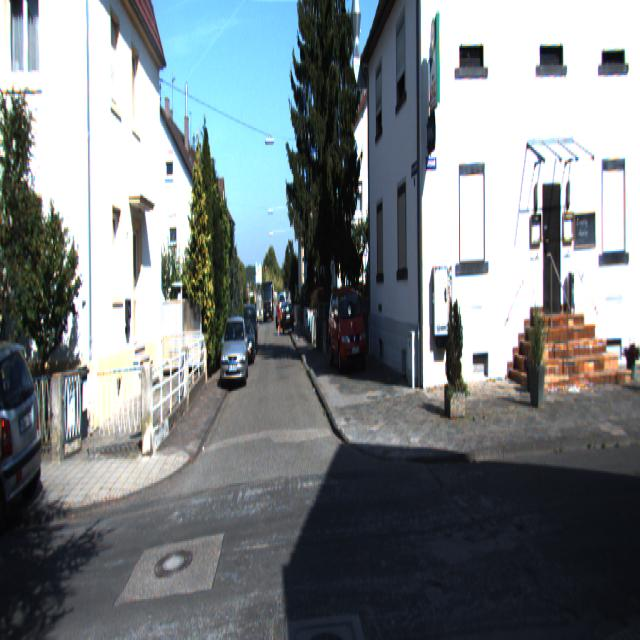Car: (0, 330, 50, 527), (328, 280, 367, 374), (221, 313, 248, 388), (237, 312, 256, 362)
